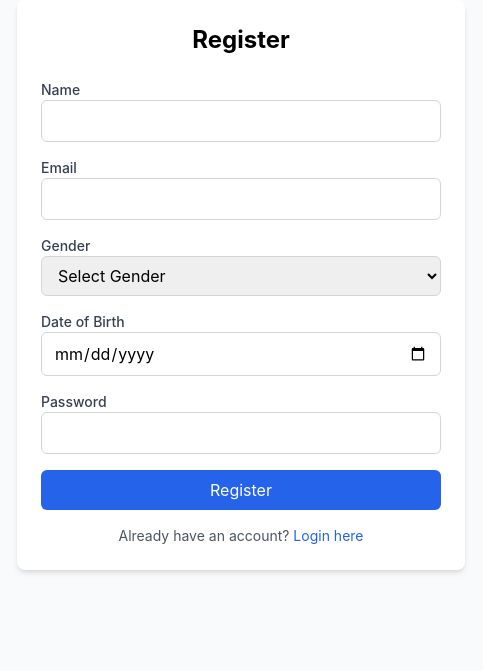
Test: Register Component › form validation › shows error when email is missing
In the field labelled "Name": (241, 121) top-left (41, 100), bottom-right (441, 142), type "John Doe"
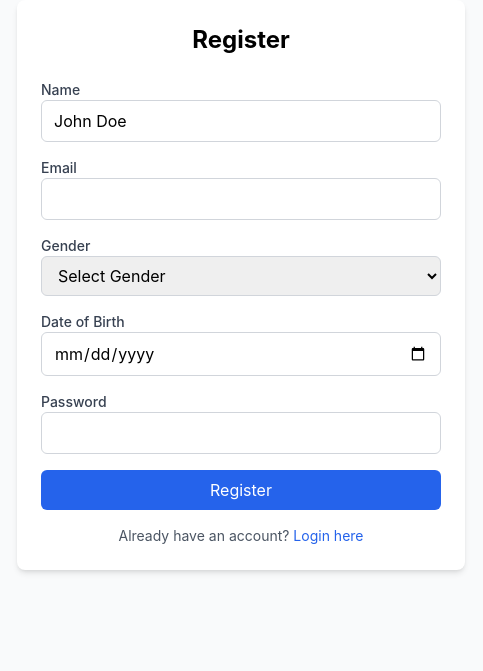
Click the button "Register": (241, 490) top-left (41, 470), bottom-right (441, 510)
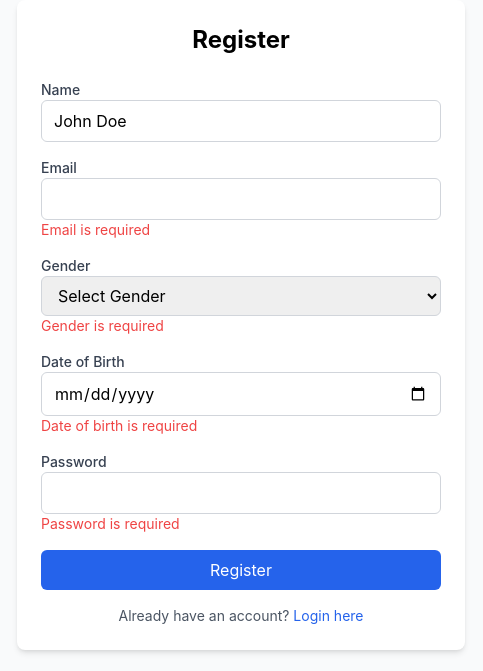
Now the text "Email is required" is shown, box top-left (41, 221), bottom-right (150, 238)
